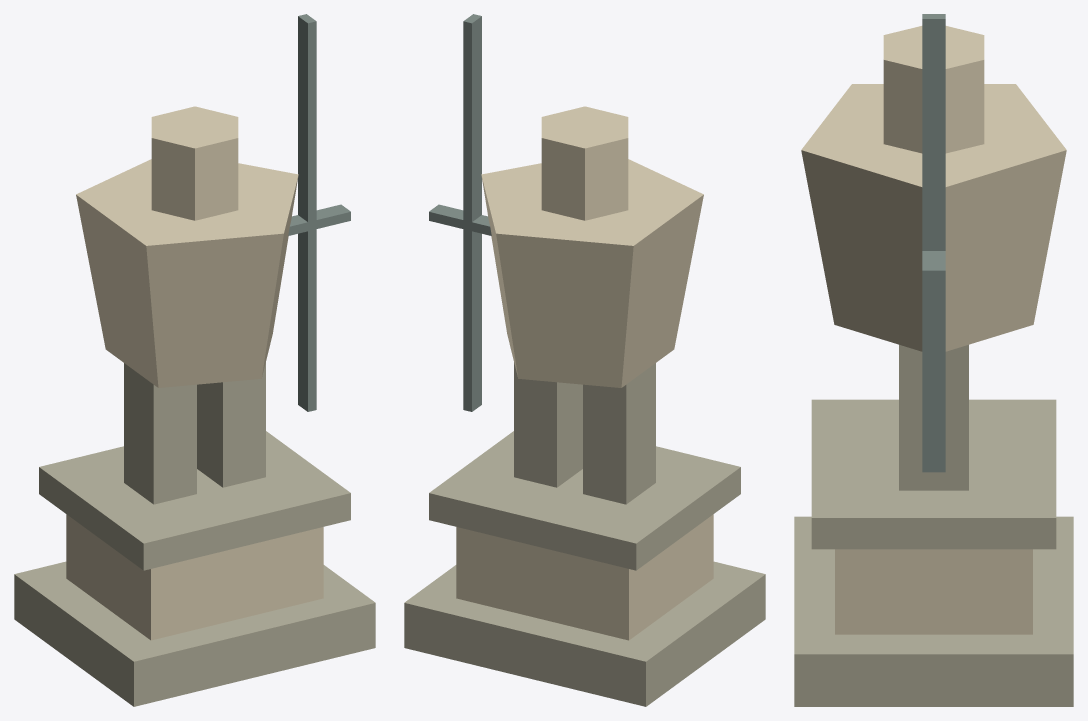
File: statue.glb
The picture shows the model from 3 angles, left to right: view 1: azimuth 30°, elevation 25°; view 2: azimuth 150°, elevation 25°; view 3: azimuth 270°, elevation 25°; orthographic projection. The views are drawn at different scales.
Parts seen in each view (by area): view 1: Building; view 2: Building; view 3: Building.
Boxes of the visible parts, x1,y1,x2,y2 form: Building: [14, 14, 375, 706]; Building: [404, 14, 765, 706]; Building: [794, 14, 1073, 706].
Bounding box in the file's own units: 31.5 × 65 × 24.
